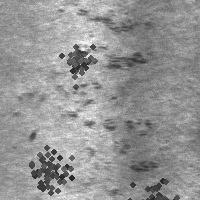rolled-in_scale: (54, 82, 157, 174), (68, 7, 145, 70), (18, 138, 80, 200), (117, 166, 181, 200), (54, 36, 98, 80)
